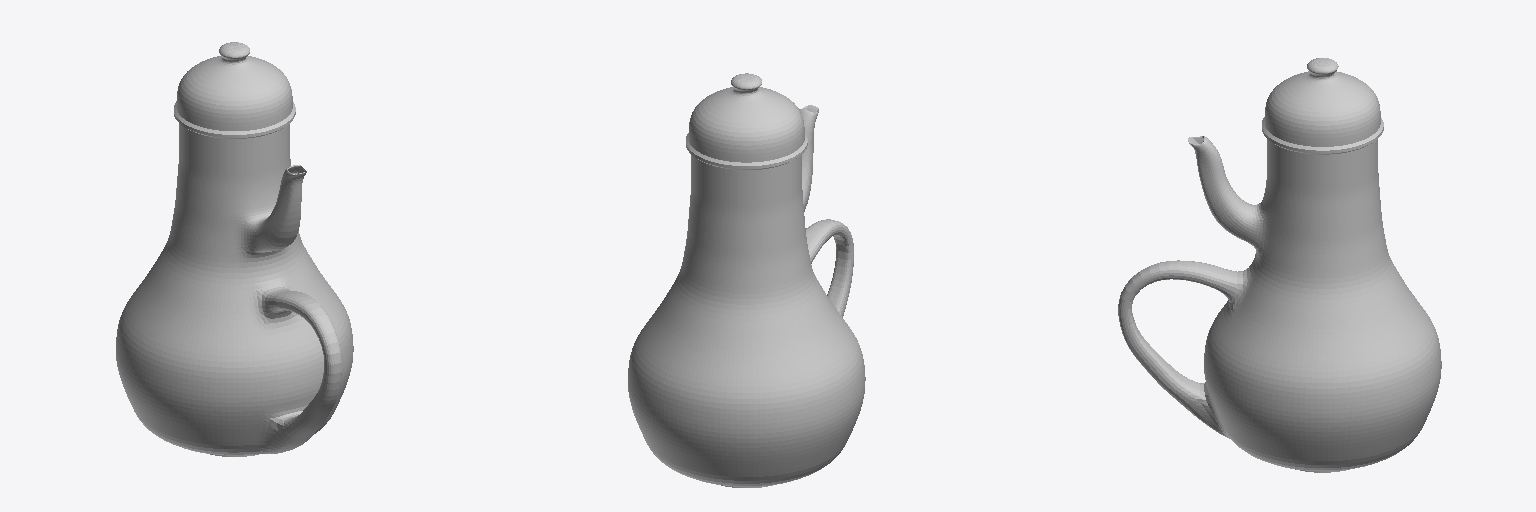
The model's file is Impractical_Kettle.obj.
3 views of the same model, side by side, from view 1: azimuth 30°, elevation 25°; view 2: azimuth 150°, elevation 25°; view 3: azimuth 270°, elevation 25° (orthographic).
Parts seen in each view (by area): view 1: Impractical_Kettle_Cylinder.002; view 2: Impractical_Kettle_Cylinder.002; view 3: Impractical_Kettle_Cylinder.002.
Boxes of the visible parts, box(x1,y1,x2,y2) form: Impractical_Kettle_Cylinder.002: box(116, 42, 353, 456); Impractical_Kettle_Cylinder.002: box(628, 73, 865, 487); Impractical_Kettle_Cylinder.002: box(1118, 58, 1441, 472).
Bounding box in the file's own units: 0.9595 × 1.73 × 1.3.